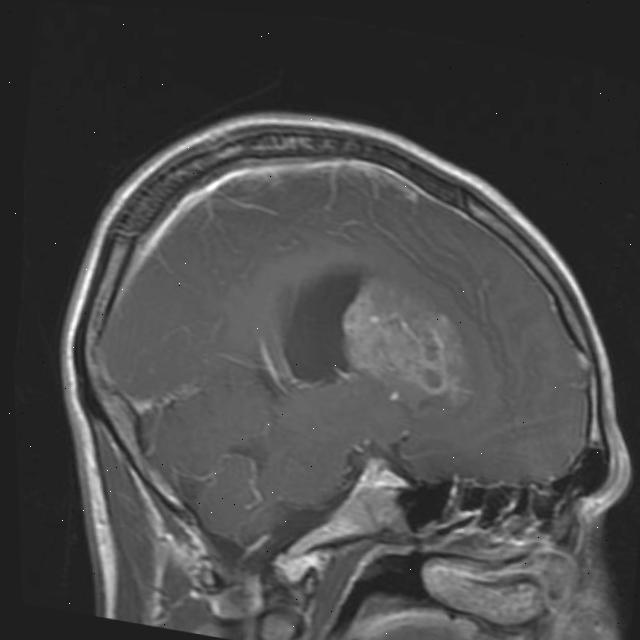Glioma: (330, 263, 481, 410)
Pituitary: (355, 451, 415, 493)
